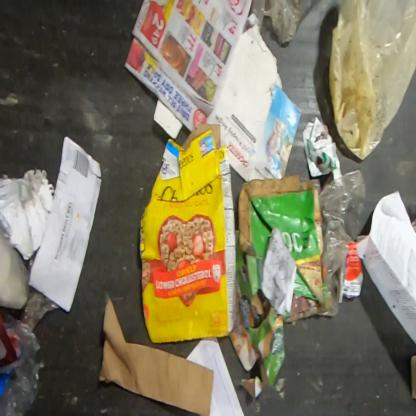cardboard: (138, 122, 237, 344), (97, 291, 215, 415), (238, 174, 324, 324), (206, 21, 283, 182), (230, 230, 286, 401), (264, 86, 303, 180), (0, 223, 30, 318), (302, 116, 342, 180), (153, 97, 184, 140), (343, 242, 365, 300), (410, 353, 415, 402)
soft_plastic: (328, 0, 415, 162), (0, 282, 63, 415), (318, 169, 367, 318), (259, 0, 314, 48)
